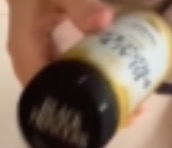blackprincess: (18, 10, 171, 148)
